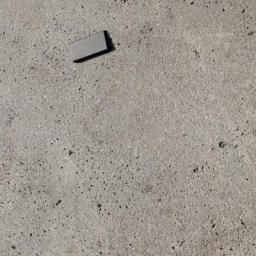FOD: (66, 29, 116, 67)
